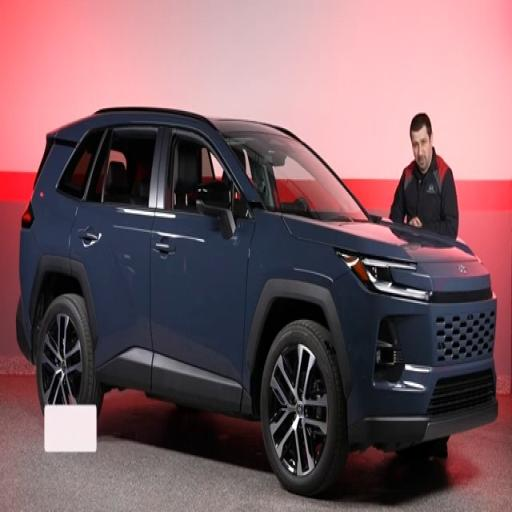bumper: (349, 399, 497, 450), (16, 298, 31, 361)
door: (151, 133, 254, 411), (70, 127, 159, 391)
emblem: (458, 265, 466, 273)
grille: (436, 311, 495, 364), (428, 370, 495, 415)
headlight: (336, 251, 431, 301)
hood: (284, 215, 490, 292), (284, 215, 476, 263)
side_mirror: (196, 181, 235, 238)
taillight: (22, 202, 34, 228)
tire: (36, 295, 103, 415), (396, 437, 449, 460)
wheel: (260, 320, 348, 496)
window: (165, 134, 249, 217), (88, 127, 157, 206), (58, 131, 103, 199)
windshield: (225, 133, 367, 221)
